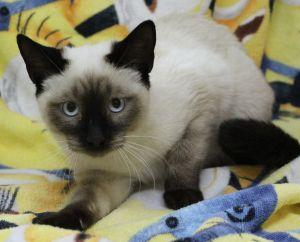siamese: (17, 19, 163, 163)
